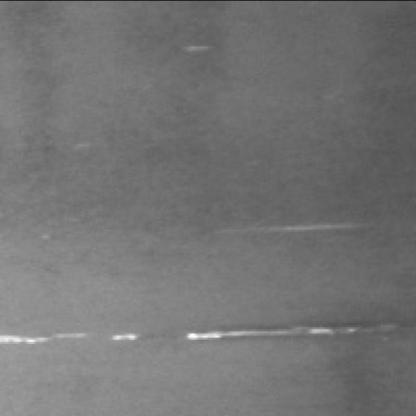scratches: (179, 316, 364, 346)
